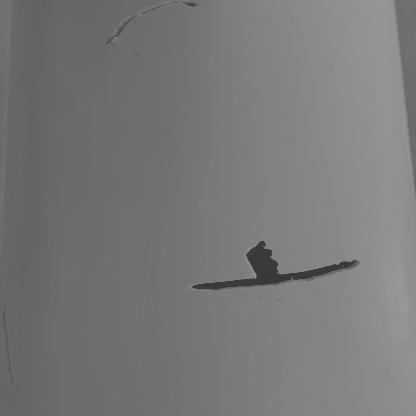fengxi: (192, 257, 359, 292), (106, 1, 200, 45)
kongdong: (245, 241, 284, 279)
